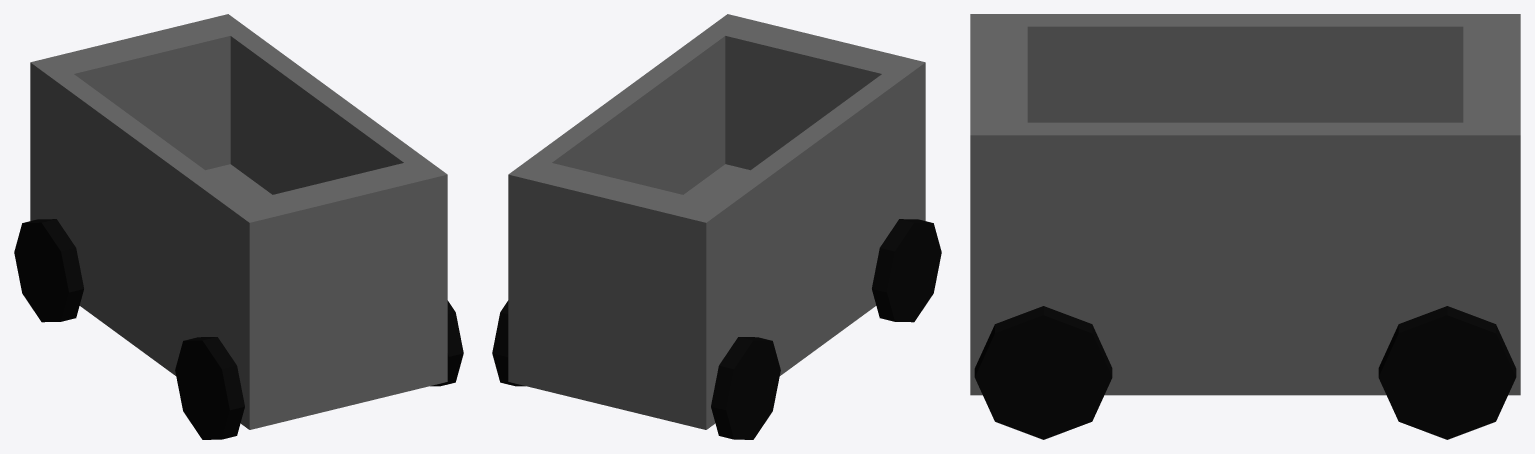
File: Cart.fbx
3 views of the same model, side by side, from view 1: azimuth 30°, elevation 25°; view 2: azimuth 150°, elevation 25°; view 3: azimuth 270°, elevation 25° (orthographic). The views are drawn at different scales.
Parts seen in each view (by area): view 1: Cube.039, Cylinder.007; view 2: Cube.039, Cylinder.007; view 3: Cube.039, Cylinder.007.
Boxes of the visible parts, x1,y1,x2,y2 form: Cube.039: (30, 14, 447, 429); Cylinder.007: (14, 219, 463, 439); Cube.039: (508, 14, 925, 429); Cylinder.007: (492, 219, 941, 439); Cube.039: (970, 14, 1520, 395); Cylinder.007: (974, 306, 1516, 439).
Bounding box in the file's own units: 1.95 × 1.87 × 3.18.
